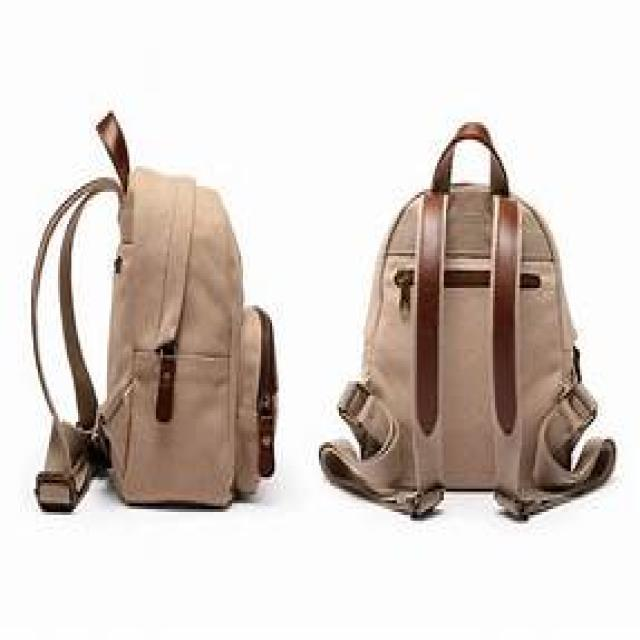backpack: (318, 120, 617, 522), (30, 109, 280, 513)
